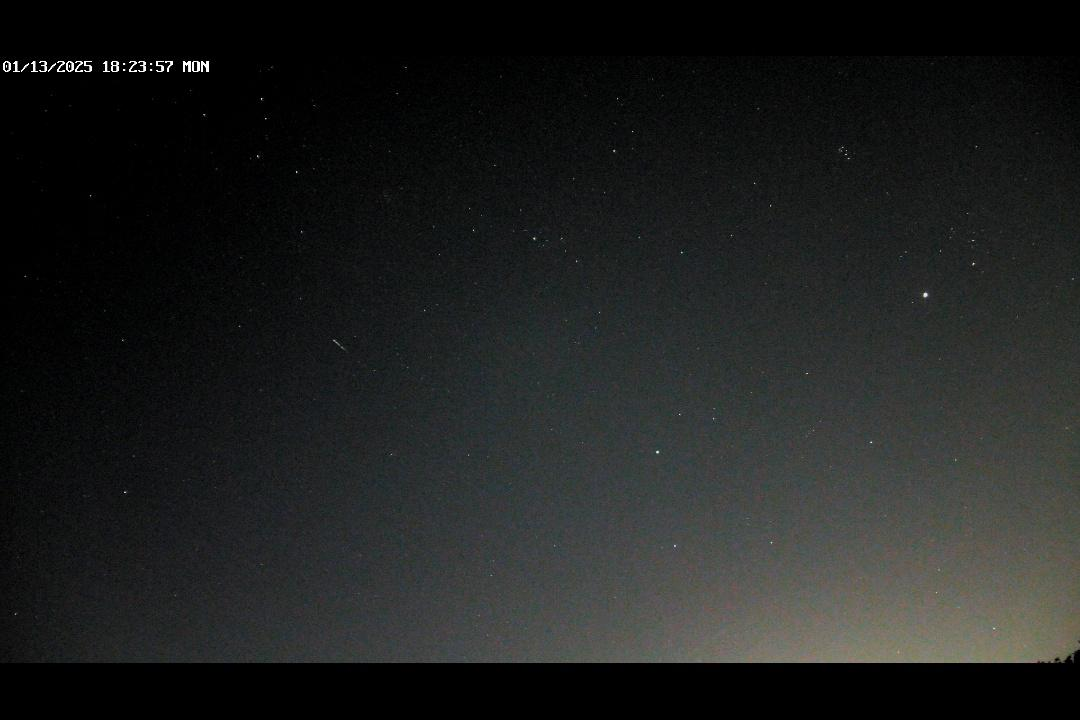meteorite: (328, 336, 360, 361)
